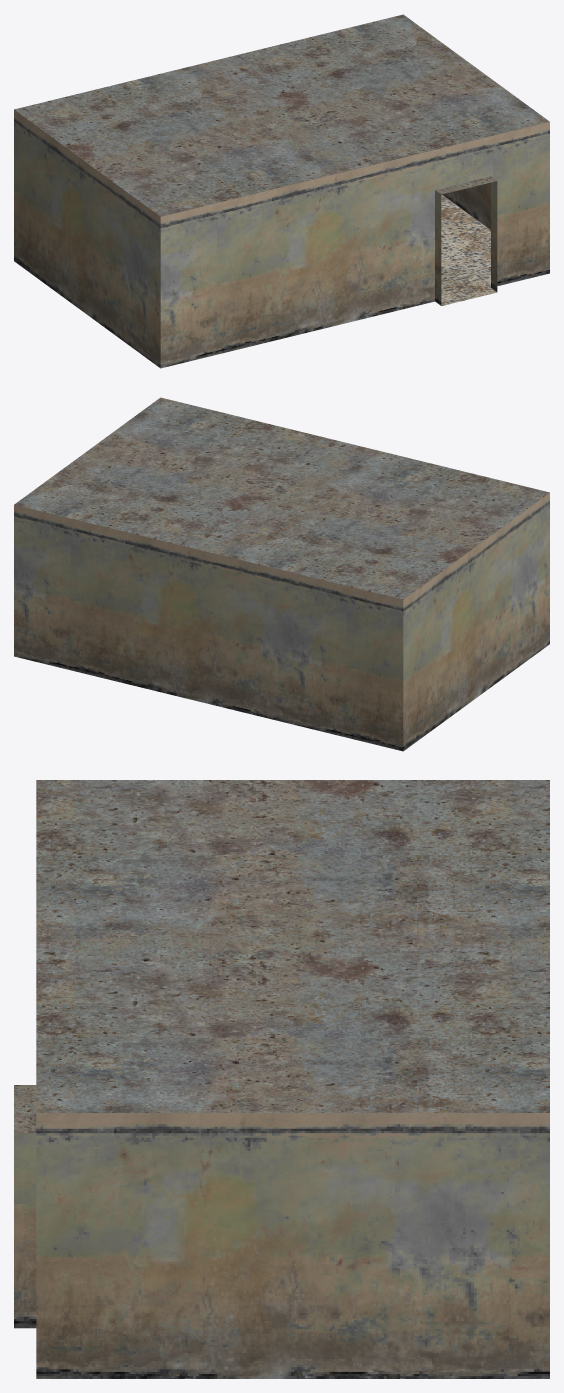
The model's file is _Room_7.FBX.
3 renders of one model, top to bottom at view 1: azimuth 30°, elevation 25°; view 2: azimuth 150°, elevation 25°; view 3: azimuth 270°, elevation 25°, orthographic. The views are drawn at different scales.
Visible parts, largest first — view 1: _Room_7; view 2: _Room_7; view 3: _Room_7.
Boxes of the visible parts, x1=… form: _Room_7: x1=14, y1=14, x2=549, y2=368; _Room_7: x1=14, y1=397, x2=549, y2=751; _Room_7: x1=14, y1=780, x2=549, y2=1378.
Size of the model in its own units: 1667 by 620 by 1134.
Materials: 4 (4 with a texture image).
